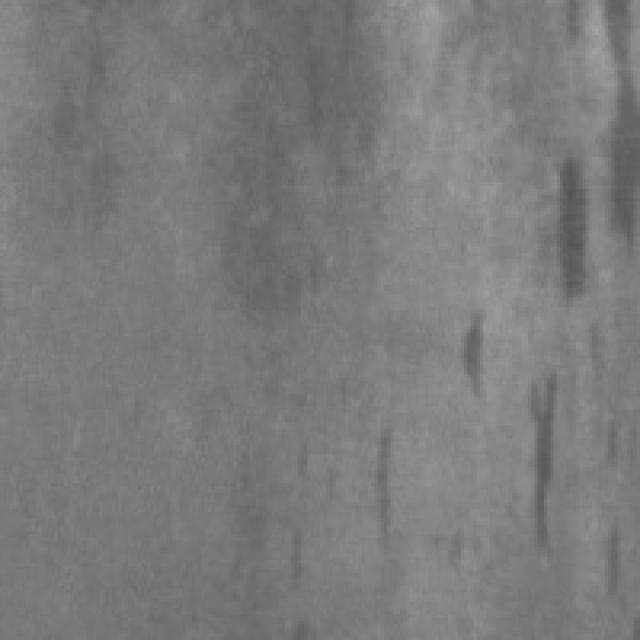inclusion: (45, 19, 131, 221), (282, 9, 364, 214), (275, 422, 346, 608), (534, 121, 596, 316), (557, 314, 627, 471), (512, 362, 566, 556), (356, 419, 406, 557), (438, 301, 493, 400), (586, 499, 630, 611)
